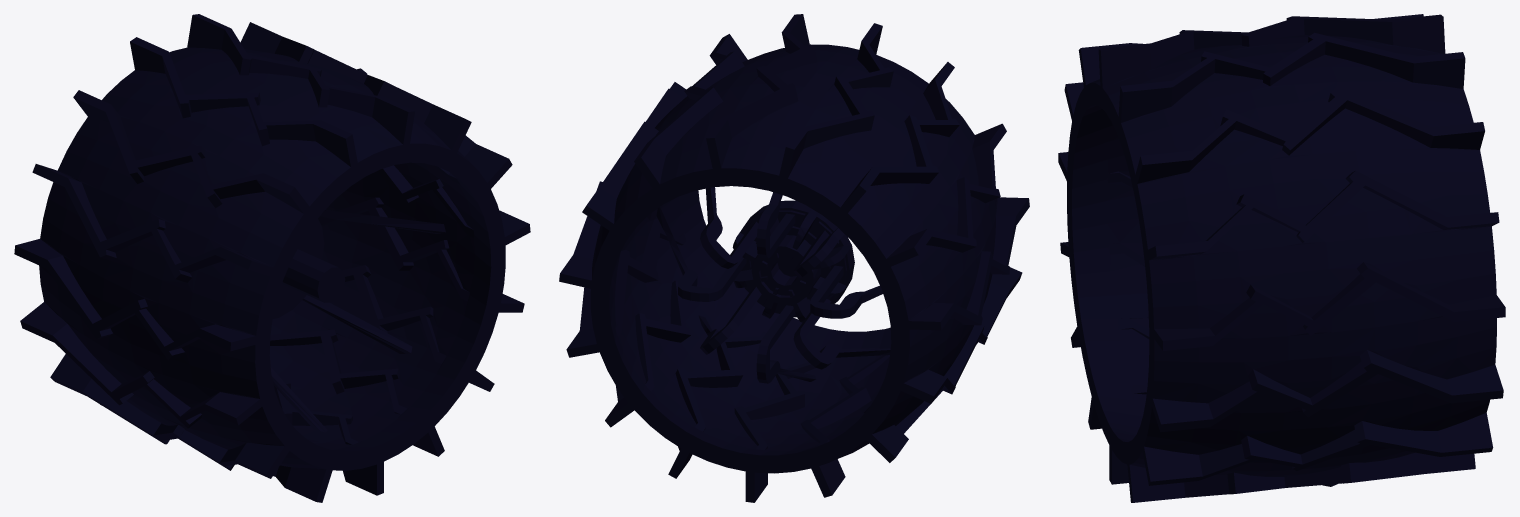
Rendered from Mars6Mars_Rover__Curiosity_1_0__-_1__Rover_Wheel_right_1.001.dae.
3 renders of one model, left to right at view 1: azimuth 30°, elevation 25°; view 2: azimuth 150°, elevation 25°; view 3: azimuth 270°, elevation 25°, orthographic. The views are drawn at different scales.
Visible parts, largest first — view 1: tmp_export_Mars6Mars_Rover__Curiosity_1_0__-_1__Rover_Wheel_; view 2: tmp_export_Mars6Mars_Rover__Curiosity_1_0__-_1__Rover_Wheel_; view 3: tmp_export_Mars6Mars_Rover__Curiosity_1_0__-_1__Rover_Wheel_.
Boxes of the visible parts, x1,y1,x2,y2 form: tmp_export_Mars6Mars_Rover__Curiosity_1_0__-_1__Rover_Wheel_: (14, 14, 530, 502); tmp_export_Mars6Mars_Rover__Curiosity_1_0__-_1__Rover_Wheel_: (559, 14, 1029, 502); tmp_export_Mars6Mars_Rover__Curiosity_1_0__-_1__Rover_Wheel_: (1058, 14, 1505, 502).
Size of the model in its own units: 1.12 by 0.9504 by 1.
